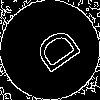D: (25, 25, 83, 81)
